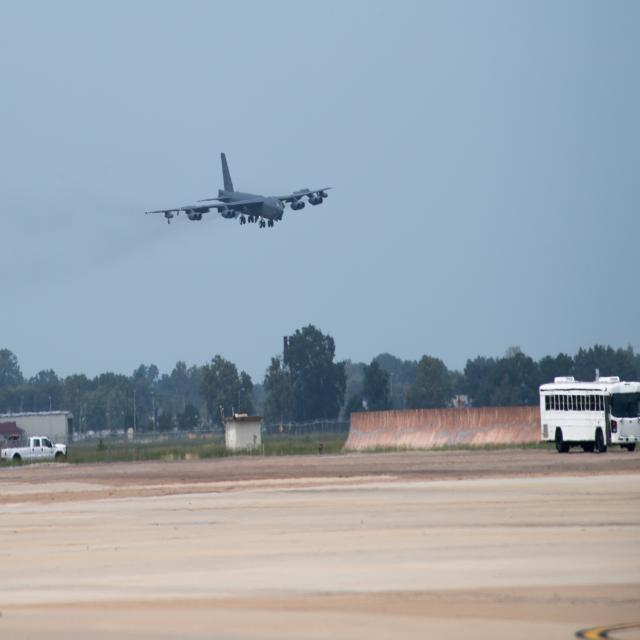MIL_Plane: (144, 152, 334, 228)
